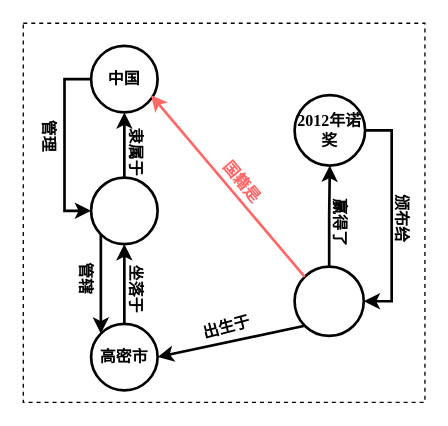
The diagram is 448 pixels wide and 426 high, and some of its shapes have lost their labels. The centre of each missing label's shape, as x and y in pixels:
"山东省" belongs at pixel 123 210.
"莫言" belongs at pixel 328 300.
